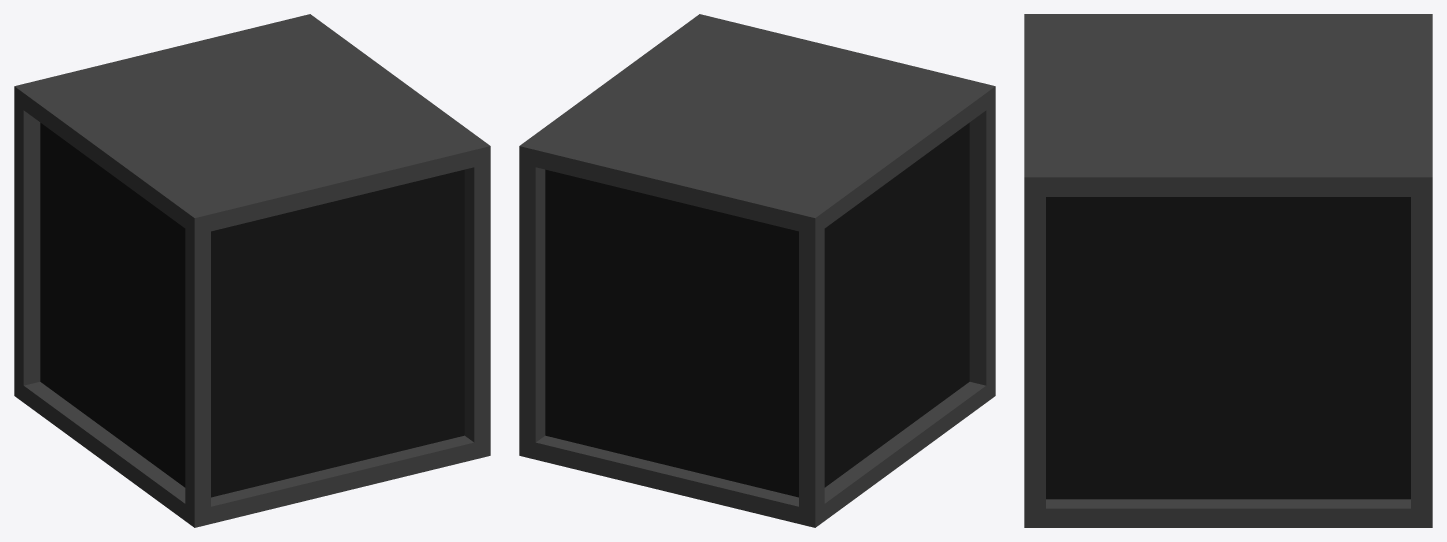
Rendered from plainbox.obj.
3 renders of one model, left to right at view 1: azimuth 30°, elevation 25°; view 2: azimuth 150°, elevation 25°; view 3: azimuth 270°, elevation 25°, orthographic. The views are drawn at different scales.
Visible parts, largest first — view 1: plainbox; view 2: plainbox; view 3: plainbox.
Part boxes in pixels (x1,y1,x2,y2): plainbox: (14, 14, 490, 527); plainbox: (519, 14, 995, 527); plainbox: (1024, 14, 1432, 527).
Bounding box in the file's own units: 18 × 18 × 19.
1 material, 1 textured.
